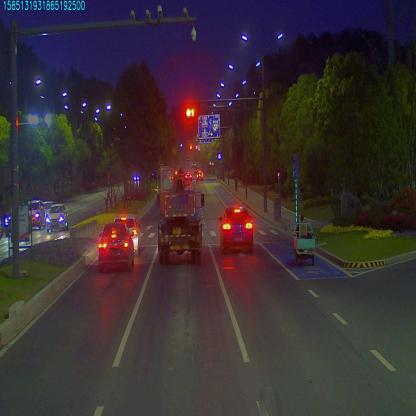traffic-light: (184, 106, 196, 119)
